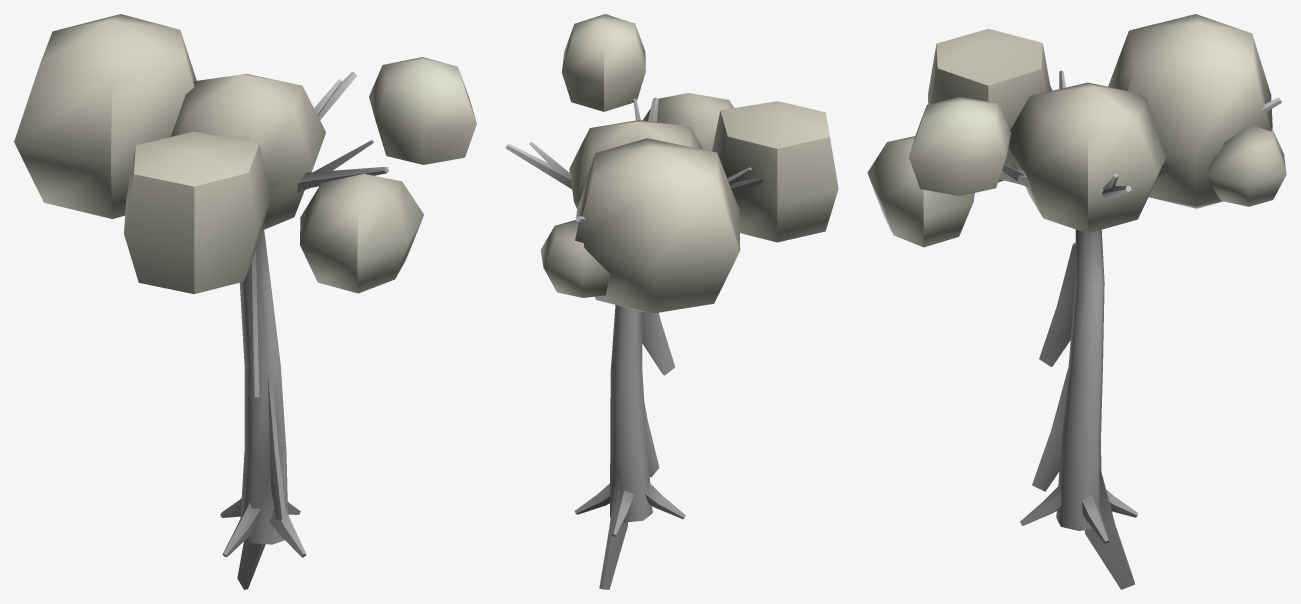
File: polylepis_a.glb
3 renders of one model, left to right at view 1: azimuth 30°, elevation 25°; view 2: azimuth 150°, elevation 25°; view 3: azimuth 270°, elevation 25°, orthographic. The views are drawn at different scales.
Parts seen in each view (by area): view 1: Polylepis_A; view 2: Polylepis_A; view 3: Polylepis_A.
Part boxes in pixels (x1,y1,x2,y2): Polylepis_A: (14,14,476,589); Polylepis_A: (505,14,838,589); Polylepis_A: (867,14,1286,589).
Size of the model in its own units: 2.55 by 4.19 by 3.01.
